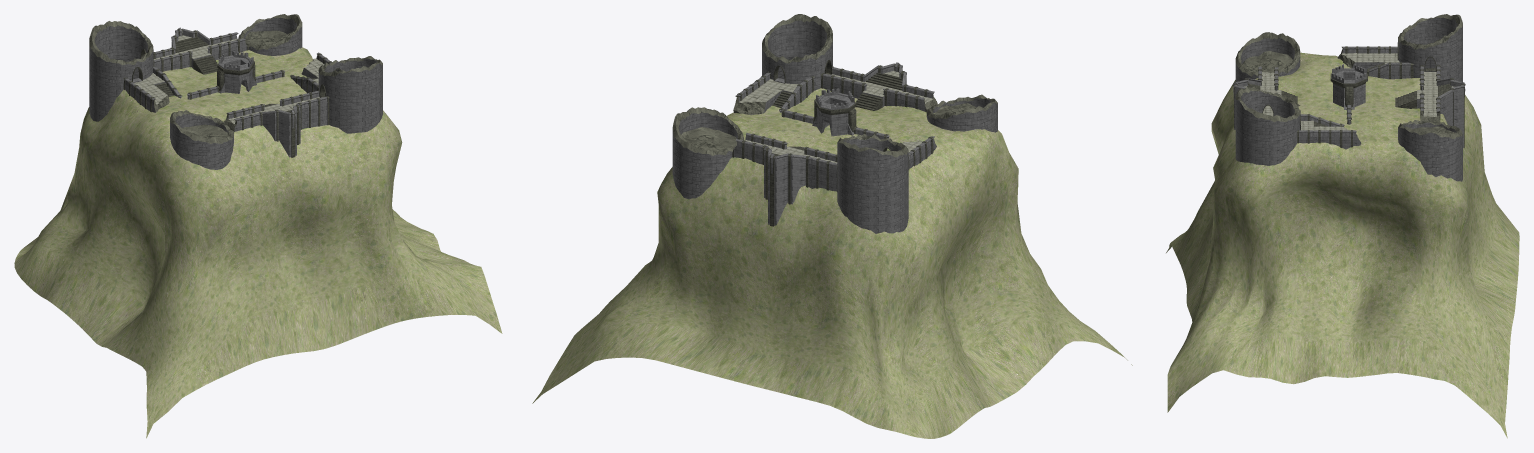
Rendered from Dragonfly_Vestige.fbx.
3 views of the same model, side by side, from view 1: azimuth 30°, elevation 25°; view 2: azimuth 150°, elevation 25°; view 3: azimuth 270°, elevation 25° (orthographic). The views are drawn at different scales.
Visible parts, largest first — view 1: DF_Vestige_Terrain, DF_Vestige_Crumbling_Towers, DF_Vestige_Walls, DF_Vestige_Walkways, DF_Vestige_Central_Tower; view 2: DF_Vestige_Terrain, DF_Vestige_Crumbling_Towers, DF_Vestige_Walls, DF_Vestige_Walkways, DF_Vestige_Central_Tower; view 3: DF_Vestige_Terrain, DF_Vestige_Crumbling_Towers, DF_Vestige_Walls, DF_Vestige_Walkways, DF_Vestige_Central_Tower.
Part boxes in pixels (box(x1,y1,x2,y2)): DF_Vestige_Terrain: box(14, 47, 502, 438); DF_Vestige_Crumbling_Towers: box(89, 14, 382, 169); DF_Vestige_Walls: box(123, 27, 338, 157); DF_Vestige_Walkways: box(134, 35, 324, 118); DF_Vestige_Central_Tower: box(187, 51, 284, 99); DF_Vestige_Terrain: box(532, 88, 1132, 438); DF_Vestige_Crumbling_Towers: box(672, 14, 997, 233); DF_Vestige_Walls: box(732, 62, 937, 226); DF_Vestige_Walkways: box(736, 71, 923, 163); DF_Vestige_Central_Tower: box(781, 88, 889, 139); DF_Vestige_Terrain: box(1166, 52, 1519, 438); DF_Vestige_Crumbling_Towers: box(1235, 14, 1462, 181); DF_Vestige_Walls: box(1232, 46, 1465, 149); DF_Vestige_Walkways: box(1244, 53, 1454, 138); DF_Vestige_Central_Tower: box(1330, 64, 1367, 124).
Size of the model in its own units: 16206 by 11690 by 13075.
